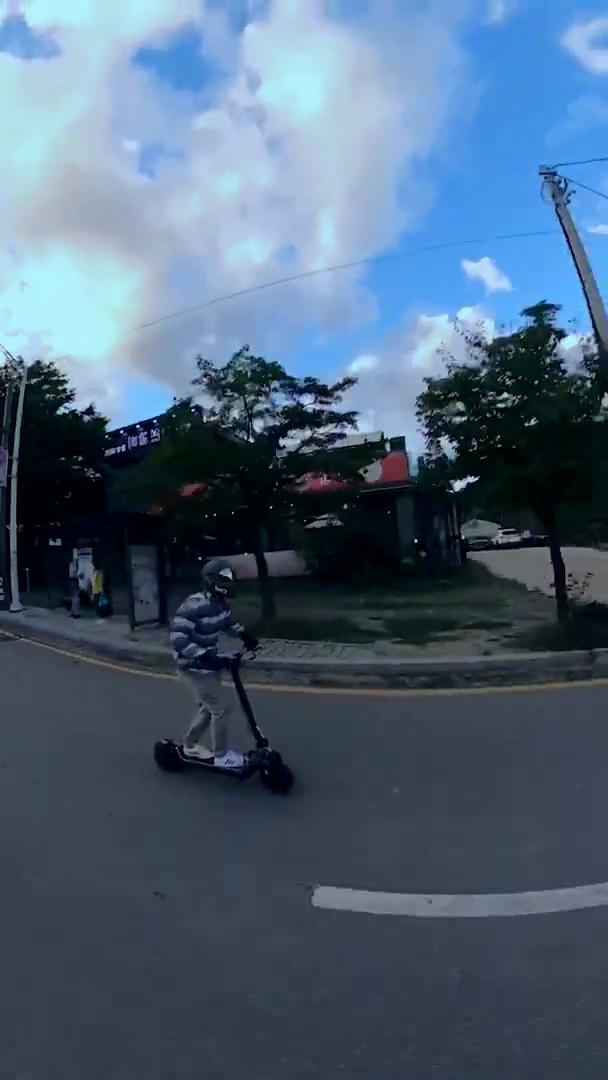helmet: (150, 556, 299, 795)
